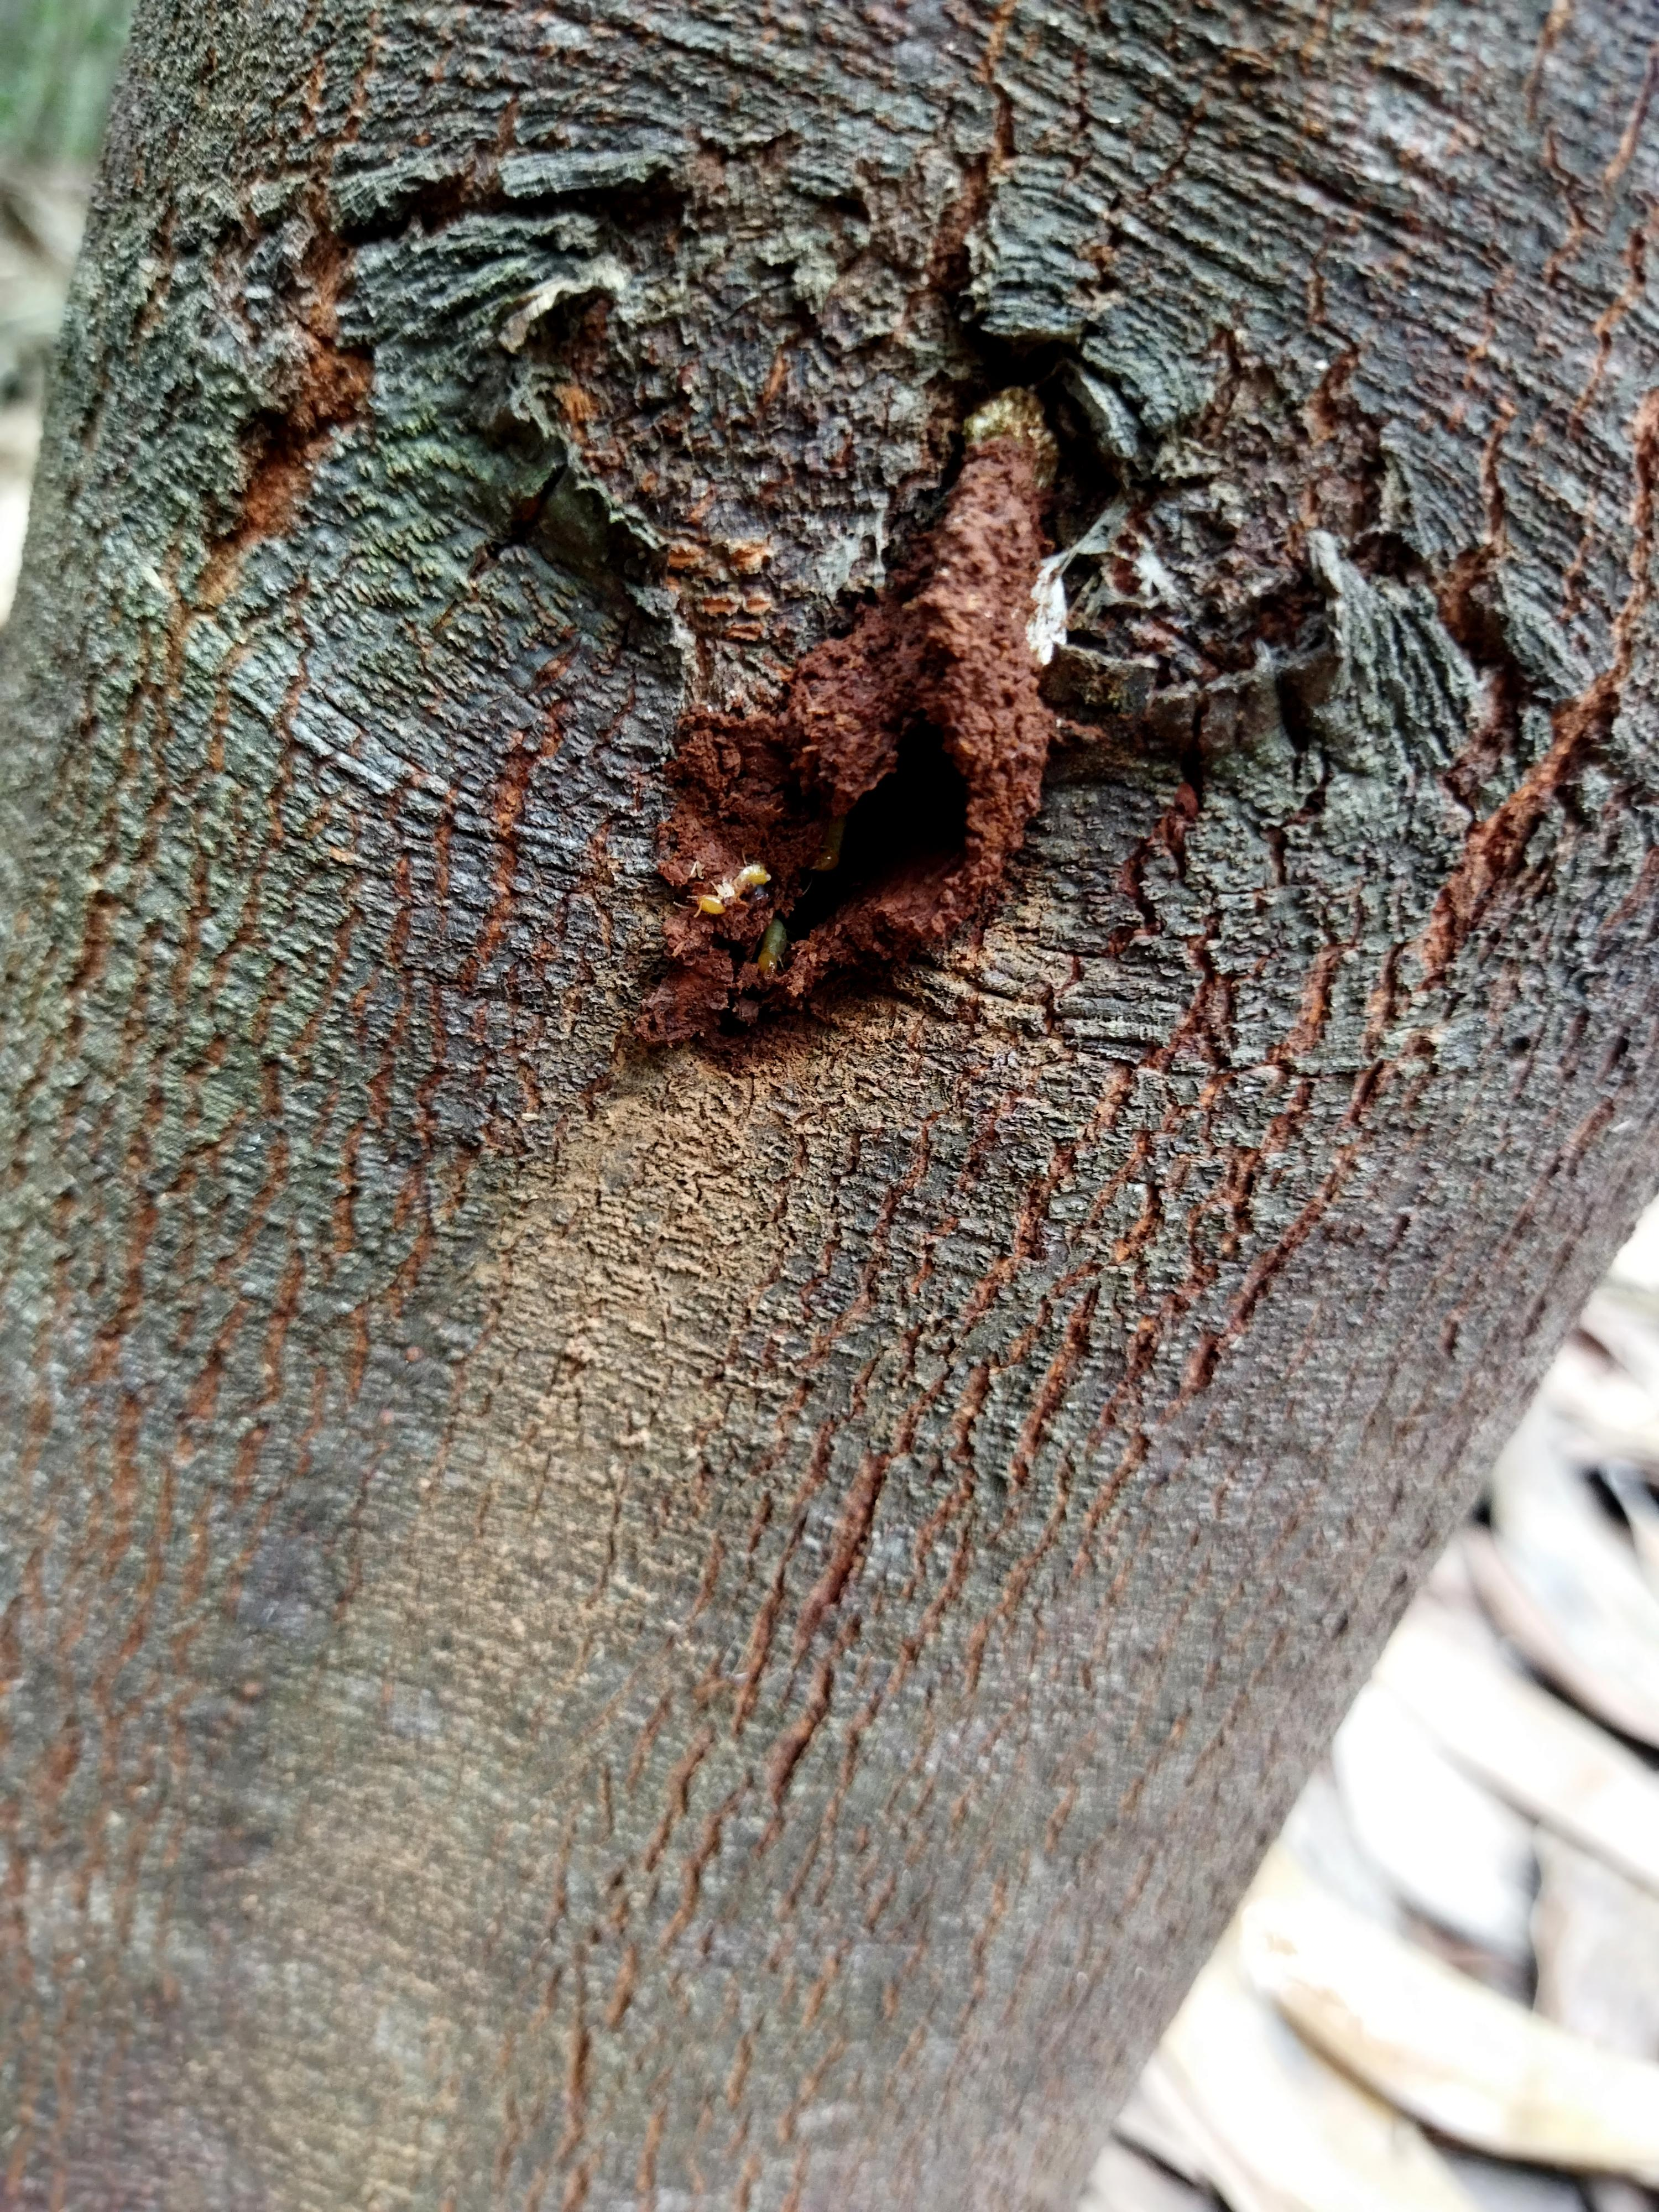Termite - Nest: (620, 394, 1103, 1097)
